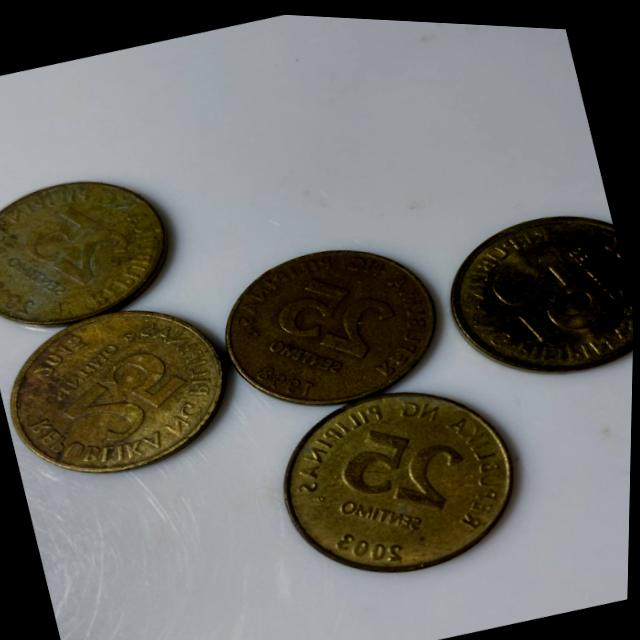25Cent_Old_Front: (326, 403, 475, 524), (265, 251, 403, 371), (58, 336, 195, 452), (491, 238, 606, 349), (23, 187, 138, 293)
